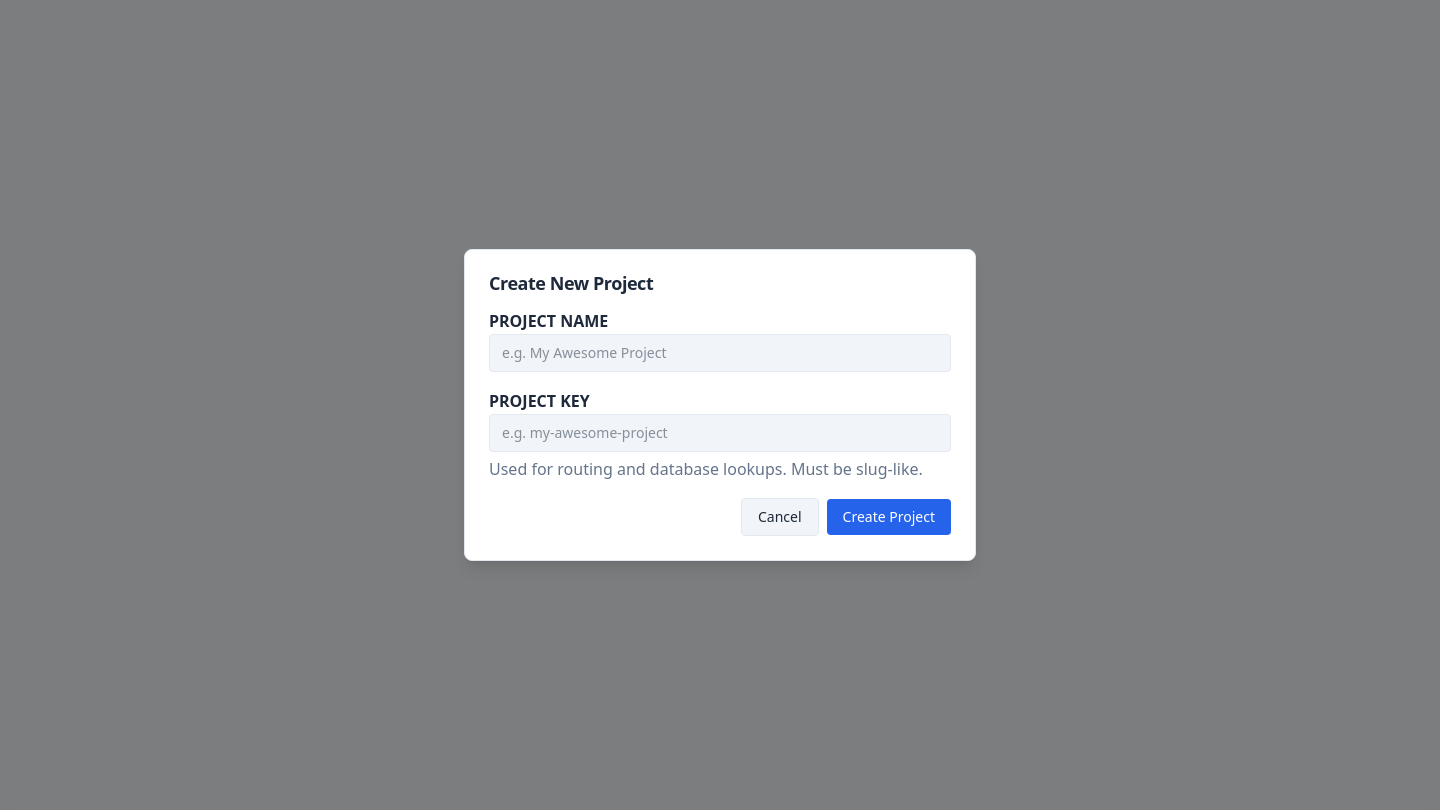
Test: CreateProjectDialog › validates slug format
The width and height of the screenshot is (1440, 810).
Step 1. Type "Valid Name" into the field with placeholder "e.g. My Awesome Project" → [720, 353], box [489,334,951,372]
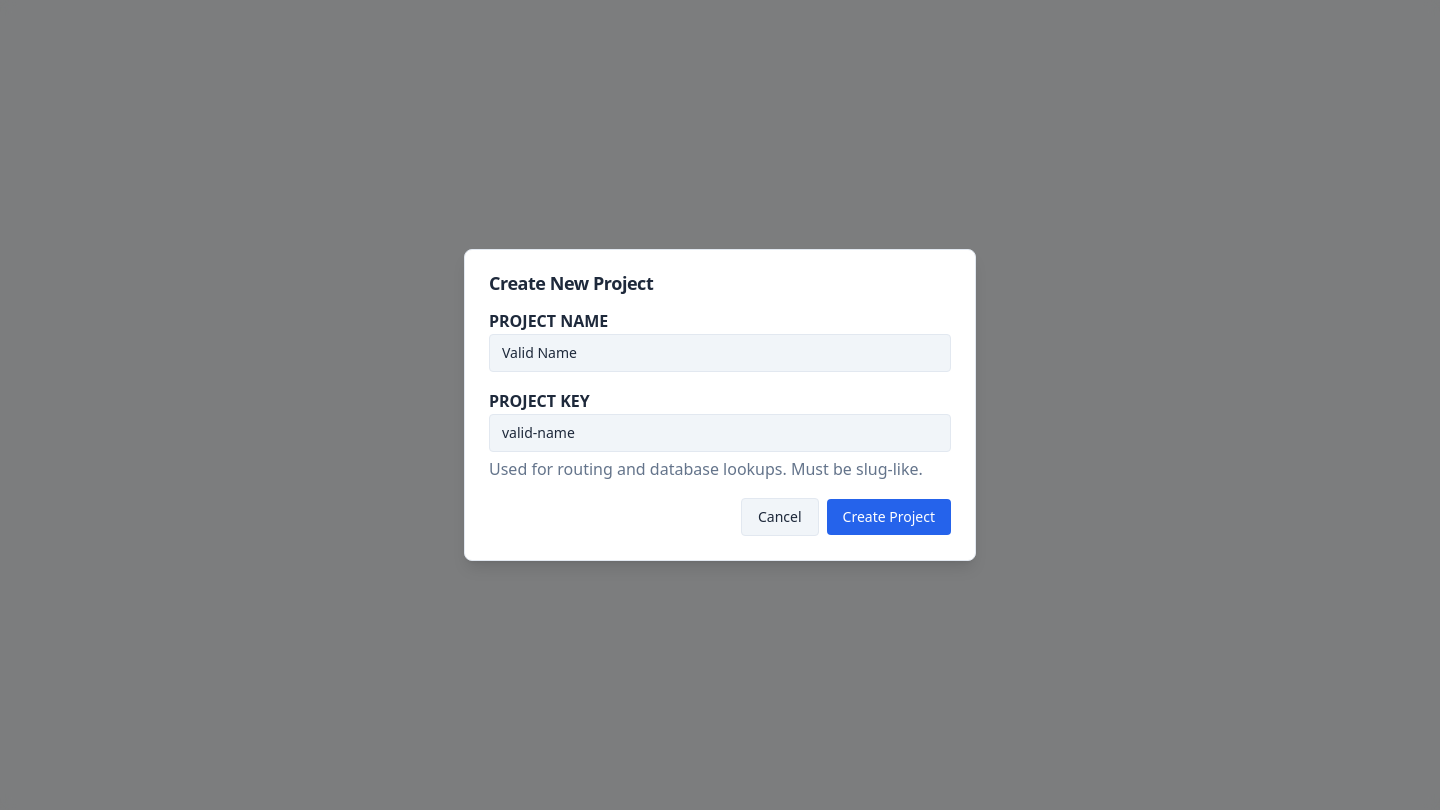
Step 2. Replace the text in the field with placeholder "e.g. my-awesome-project" below "PROJECT KEY" with "Invalid Key!" → [720, 433], box [489,414,951,452]
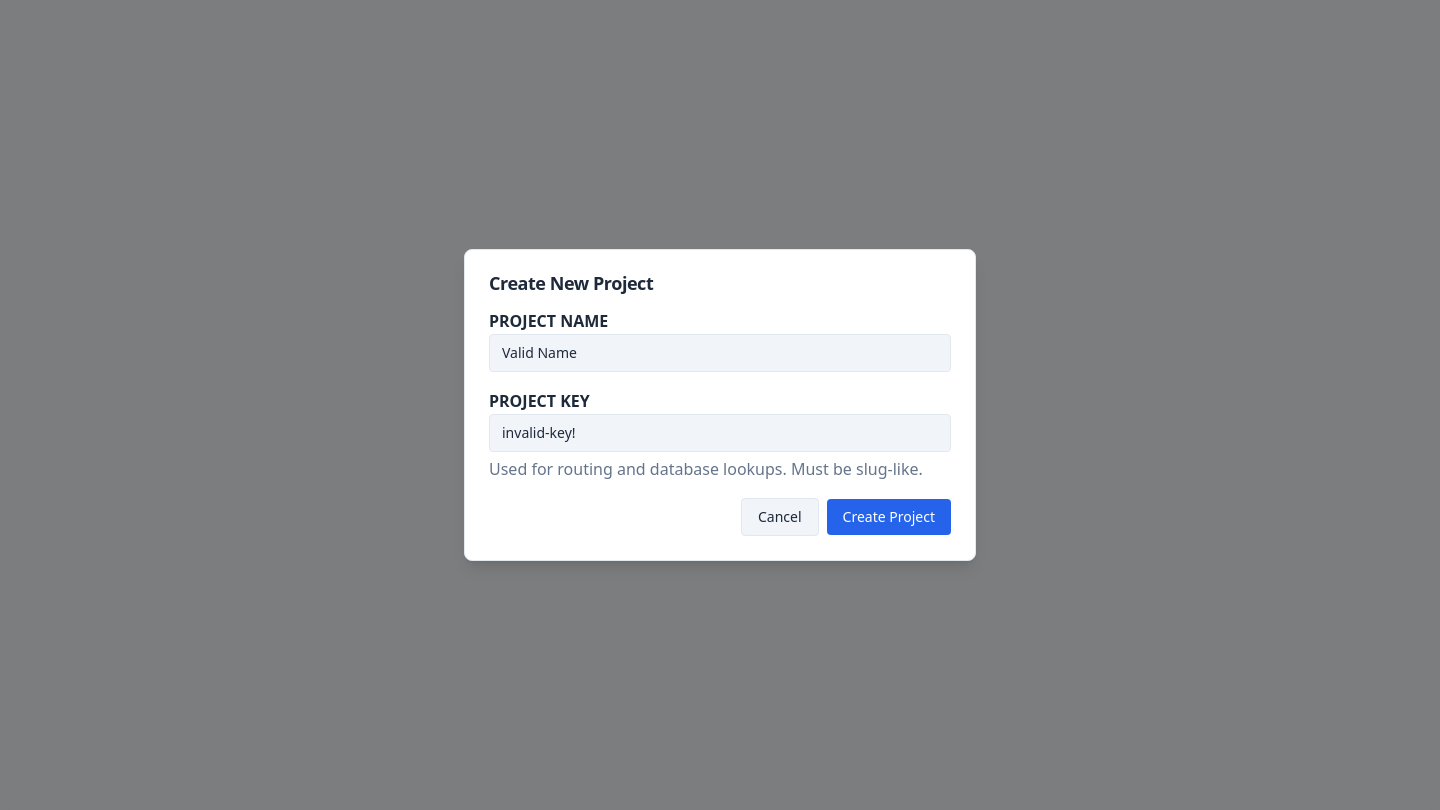
Step 3. Submit the form with placeholder "e.g. My Awesome Project", box [489,308,951,536]
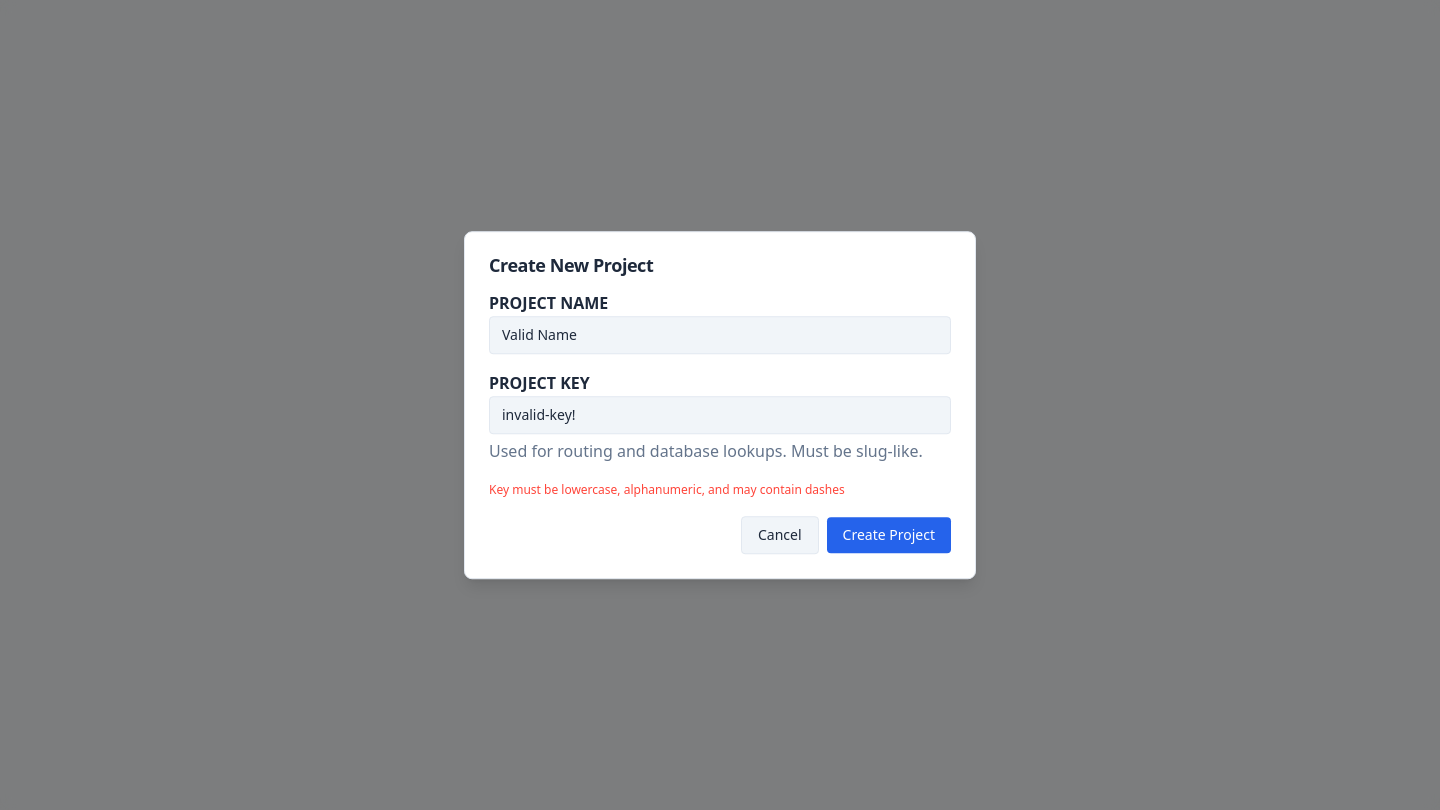
Now the text "Key must be lowercase, alphanumeric, and may contain dashes" is shown, box [489,481,845,498]
